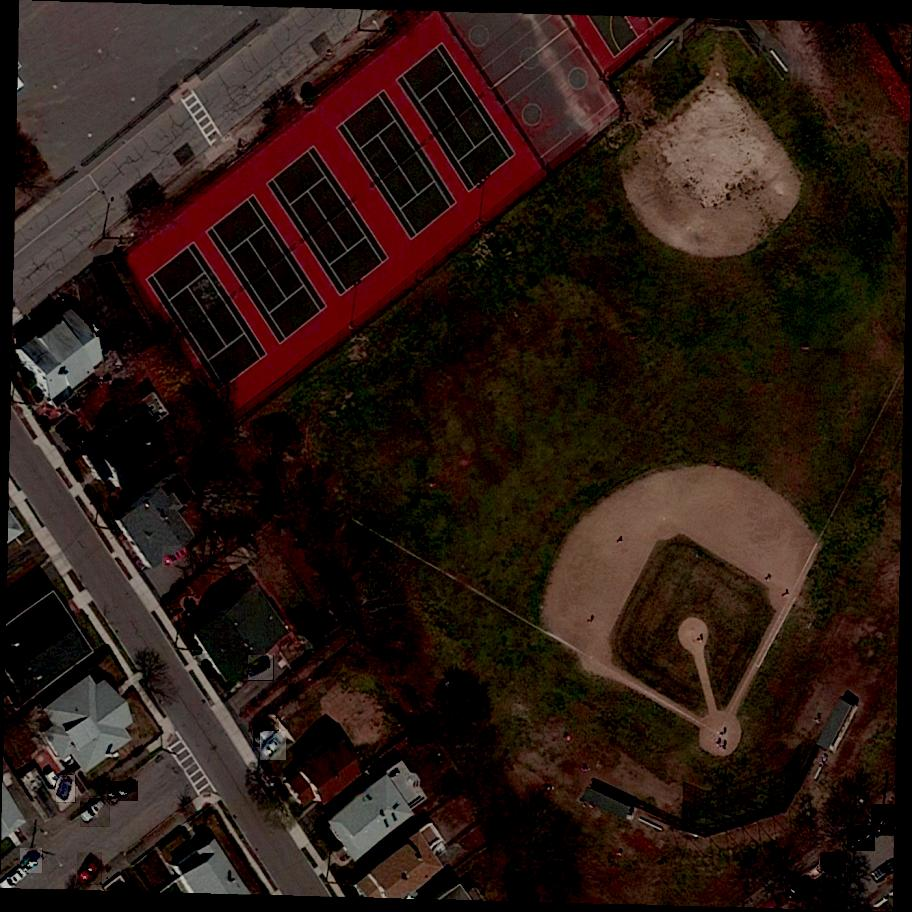small-vehicle: (783, 873, 816, 902), (250, 718, 281, 748), (80, 798, 111, 828), (77, 853, 104, 886), (871, 804, 898, 836), (259, 732, 288, 761), (246, 656, 275, 682), (846, 826, 875, 852), (82, 306, 105, 337), (162, 546, 192, 568), (21, 849, 45, 875), (56, 775, 77, 804), (109, 782, 140, 801), (820, 853, 847, 871)
